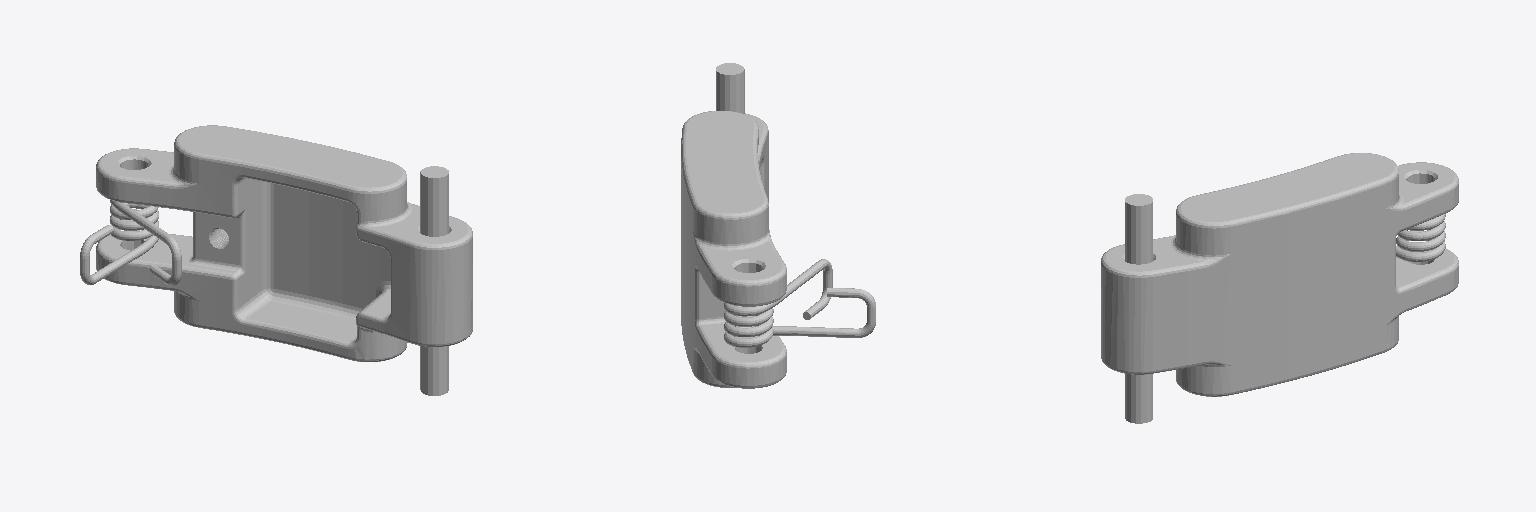
File: r_f_bar-2.obj
3 renders of one model, left to right at view 1: azimuth 30°, elevation 25°; view 2: azimuth 150°, elevation 25°; view 3: azimuth 270°, elevation 25°, orthographic.
Visible parts, largest first — view 1: obj1; view 2: obj1; view 3: obj1.
Boxes of the visible parts, <box> form: obj1: <box>80,125,472,395</box>; obj1: <box>681,63,875,388</box>; obj1: <box>1101,153,1458,423</box>.
Bounding box in the file's own units: 0.034 × 0.025 × 0.0373.